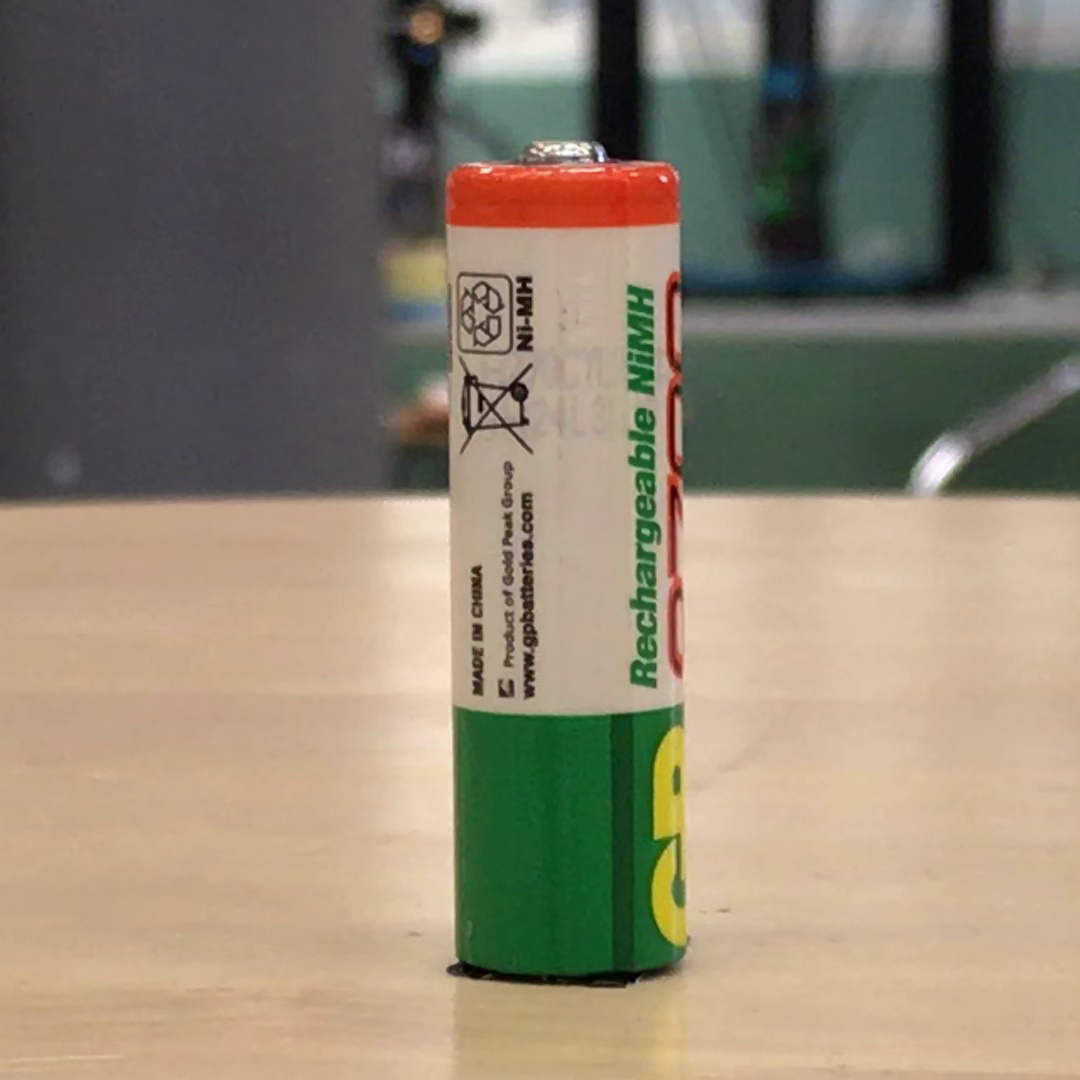keyword: (617, 275, 665, 406), (505, 266, 543, 362)
